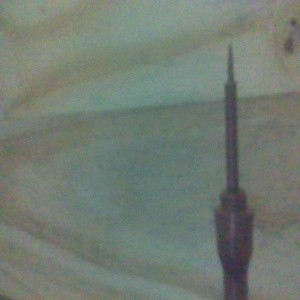solder: (212, 41, 255, 300)
